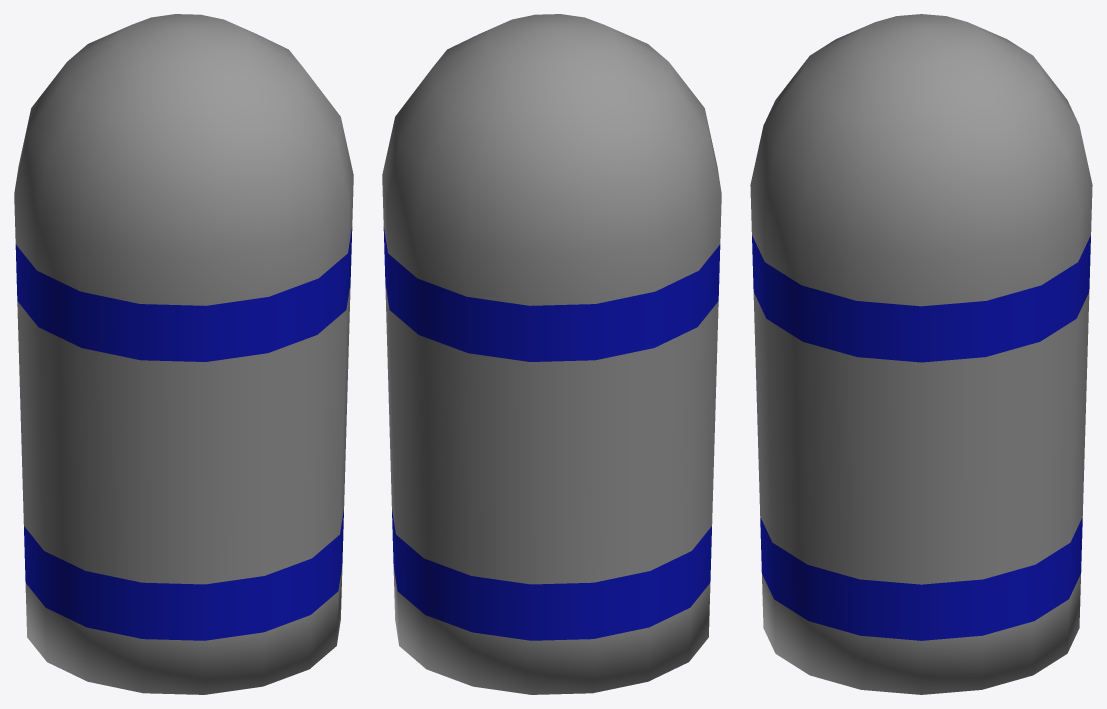
File: Bullet.FBX
3 views of the same model, side by side, from view 1: azimuth 30°, elevation 25°; view 2: azimuth 150°, elevation 25°; view 3: azimuth 270°, elevation 25° (orthographic).
Visible parts, largest first — view 1: Sphere001; view 2: Sphere001; view 3: Sphere001.
Boxes of the visible parts, x1=… form: Sphere001: x1=14, y1=14, x2=353, y2=694; Sphere001: x1=382, y1=14, x2=721, y2=694; Sphere001: x1=750, y1=14, x2=1092, y2=694.
Bounding box in the file's own units: 44.82 × 86.51 × 44.82.
